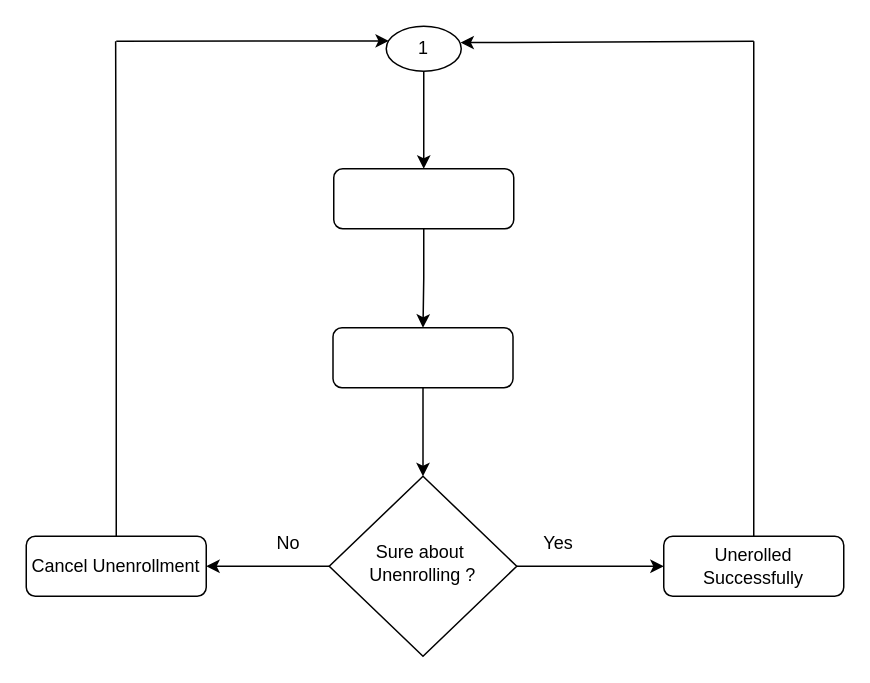
The diagram is 870 pixels wide and 683 high, and some of its shapes have lost their labels. Each missing label, with the box of its shape:
Click Unenroll: (332, 326, 513, 388)
Select Course: (332, 167, 514, 229)
